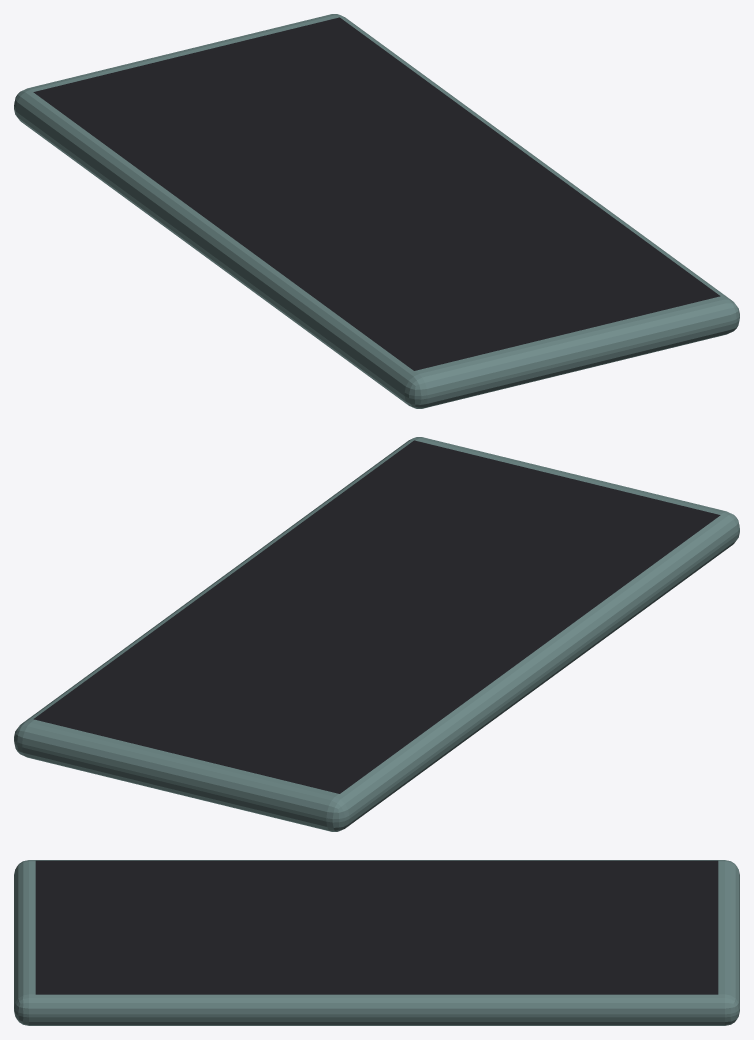
File: Phone_716.glb
3 views of the same model, one above another, from view 1: azimuth 30°, elevation 25°; view 2: azimuth 150°, elevation 25°; view 3: azimuth 270°, elevation 25° (orthographic). The views are drawn at different scales.
Visible parts, largest first — view 1: Phone_Screen, Phone_Body; view 2: Phone_Screen, Phone_Body; view 3: Phone_Screen, Phone_Body.
Part boxes in pixels (x1=…): Phone_Screen: x1=33, y1=17, x2=720, y2=370; Phone_Body: x1=14, y1=14, x2=739, y2=408; Phone_Screen: x1=33, y1=440, x2=720, y2=793; Phone_Body: x1=14, y1=437, x2=739, y2=831; Phone_Screen: x1=35, y1=860, x2=718, y2=994; Phone_Body: x1=14, y1=860, x2=739, y2=1025.
Bounding box in the file's own units: 0.0797 × 0.0078 × 0.1679.
